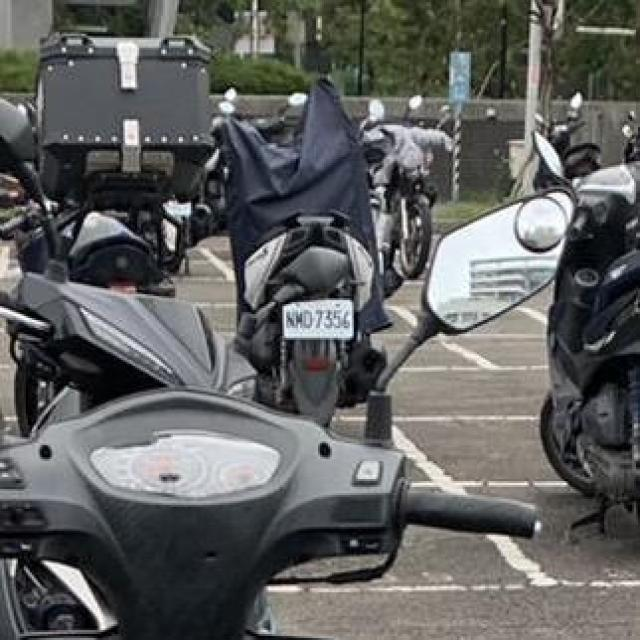W: (281, 295, 358, 345)
